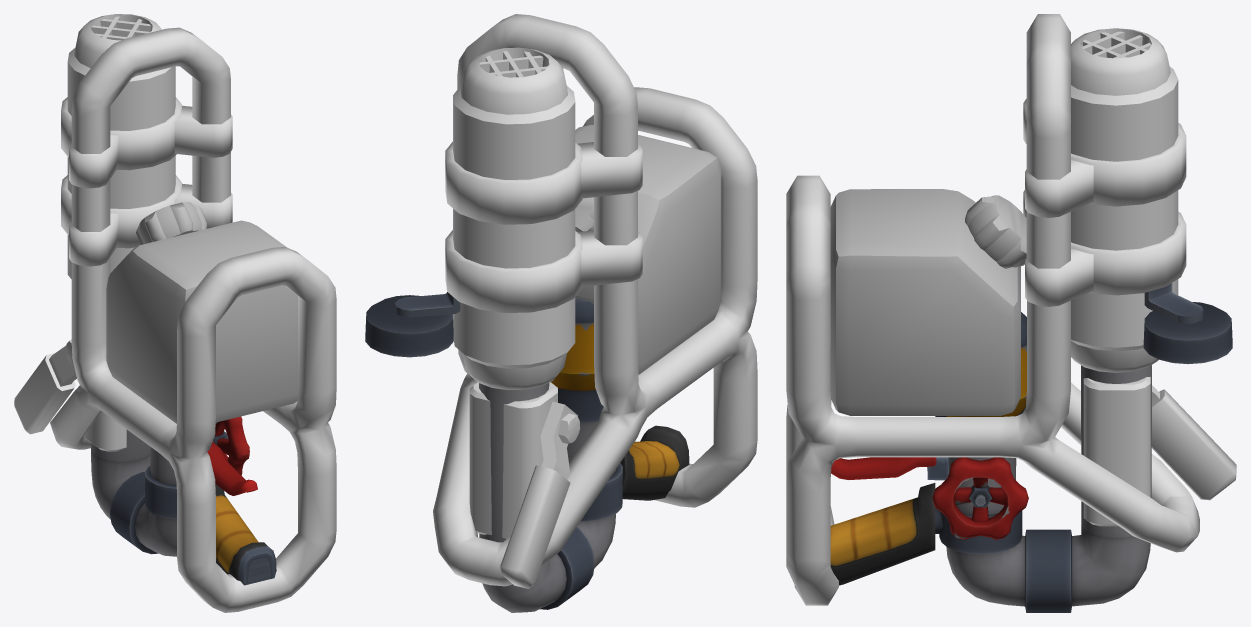
Rendered from Fant_Flamethrower.fbx.
The picture shows the model from 3 angles, left to right: view 1: azimuth 30°, elevation 25°; view 2: azimuth 150°, elevation 25°; view 3: azimuth 270°, elevation 25°; orthographic projection. The views are drawn at different scales.
Visible parts, largest first — view 1: fant_flamethrower; view 2: fant_flamethrower; view 3: fant_flamethrower.
Part boxes in pixels (x1,y1,x2,y2): fant_flamethrower: (14, 14, 336, 612); fant_flamethrower: (365, 14, 757, 612); fant_flamethrower: (786, 14, 1236, 612).
Bounding box in the file's own units: 118 × 229 × 326.
